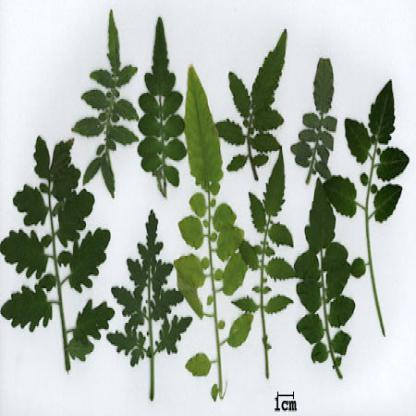tomato leaf: (182, 64, 226, 192), (174, 204, 211, 259), (179, 344, 215, 390), (177, 273, 210, 322), (176, 248, 208, 290), (224, 308, 253, 352), (224, 247, 248, 299), (214, 219, 244, 254), (210, 198, 239, 233)
